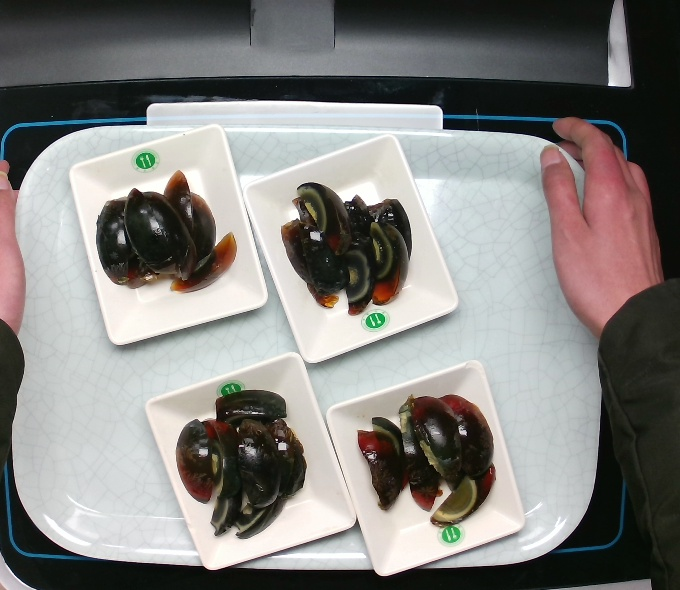wcq-PiDan: (348, 376, 505, 530), (167, 376, 312, 539), (88, 154, 242, 306), (269, 164, 415, 318)
